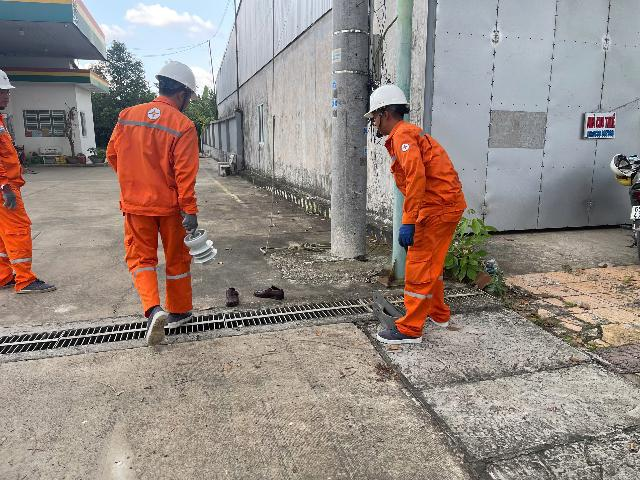gloves: (393, 222, 424, 256), (1, 176, 18, 220), (181, 206, 204, 233)
helmet: (146, 56, 208, 116), (355, 80, 420, 117), (0, 66, 22, 98)
shoes: (378, 322, 438, 352), (138, 304, 169, 356), (421, 301, 456, 332), (17, 273, 58, 297), (168, 304, 198, 335), (4, 271, 27, 291)
